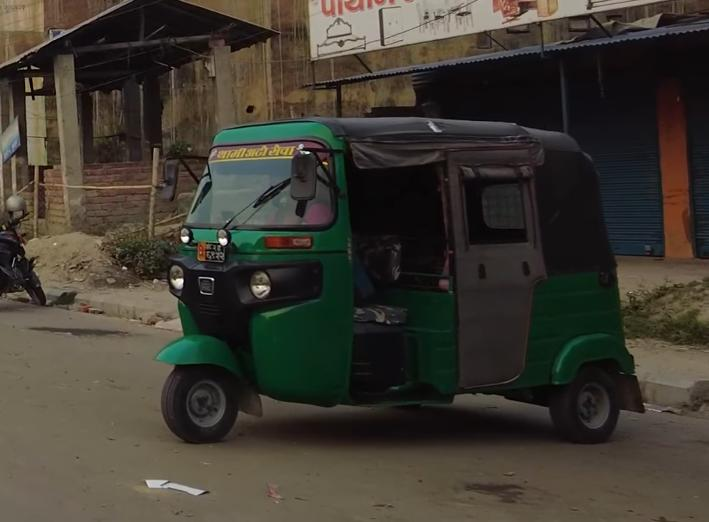auto_rickshaw: (145, 115, 653, 458)
